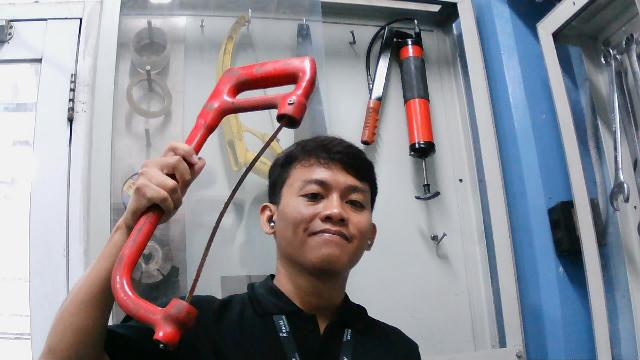gergaji_besi: (104, 43, 319, 354)
